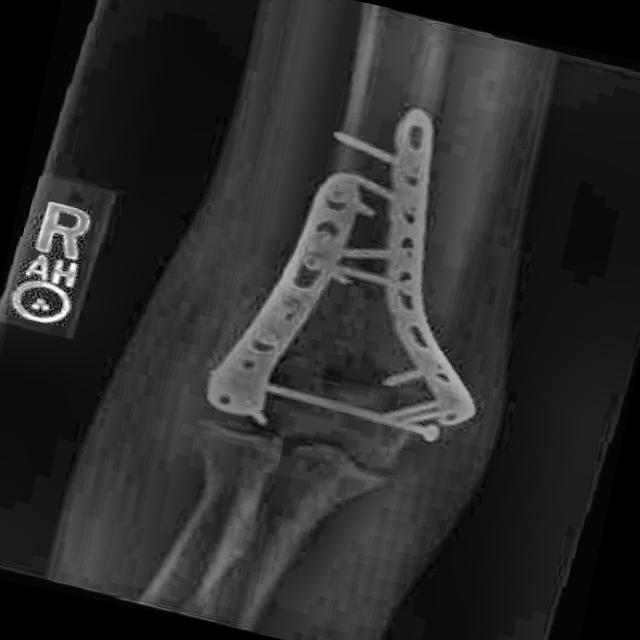elbow positive: (270, 216, 397, 354)
